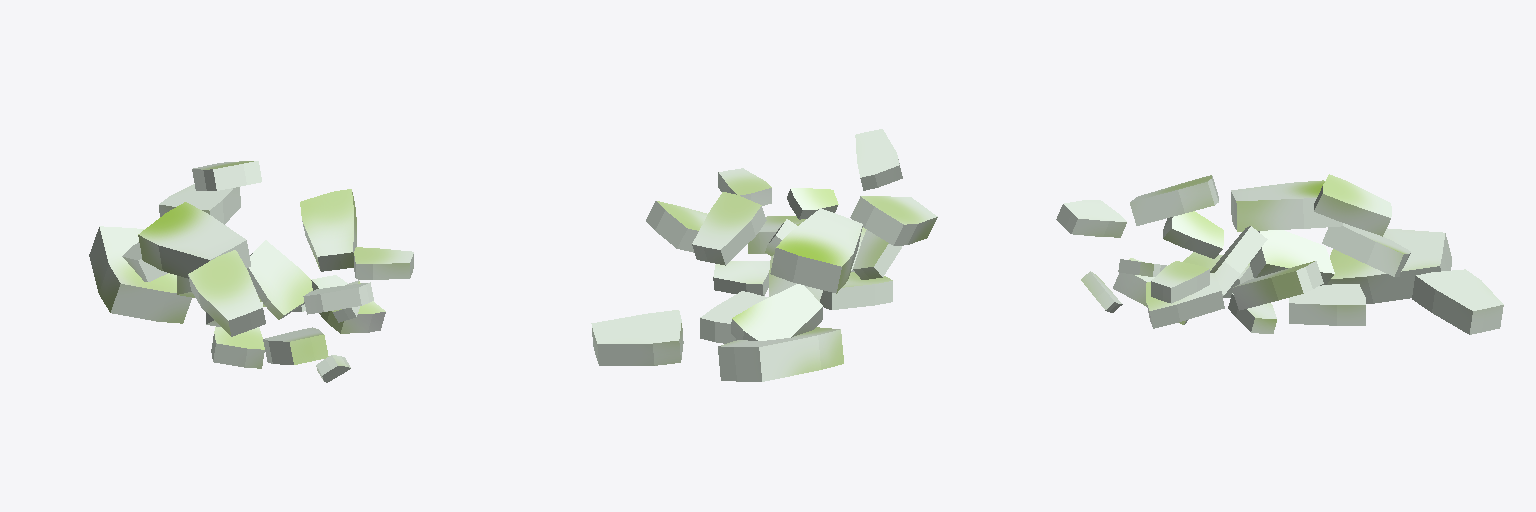
3 views of the same model, side by side, from view 1: azimuth 30°, elevation 25°; view 2: azimuth 150°, elevation 25°; view 3: azimuth 270°, elevation 25° (orthographic).
Parts seen in each view (by area): view 1: Cube.008; view 2: Cube.008; view 3: Cube.008.
Boxes of the visible parts, x1=… form: Cube.008: x1=89, y1=161, x2=413, y2=382; Cube.008: x1=591, y1=129, x2=937, y2=381; Cube.008: x1=1056, y1=174, x2=1503, y2=334.
Bounding box in the file's own units: 0.7726 × 0.4959 × 1.35.
Materials: 1 (1 with a texture image).